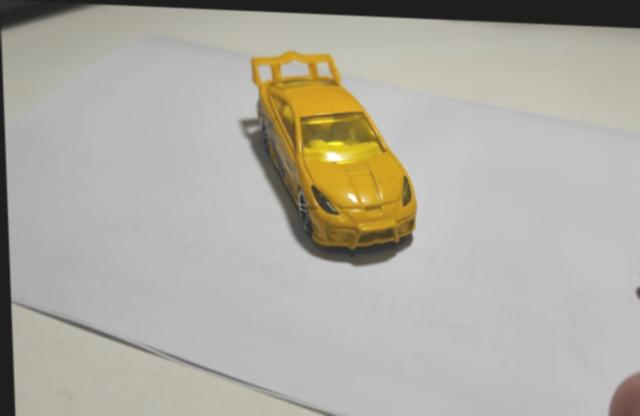07_RHLTURBO: (250, 49, 417, 252)
